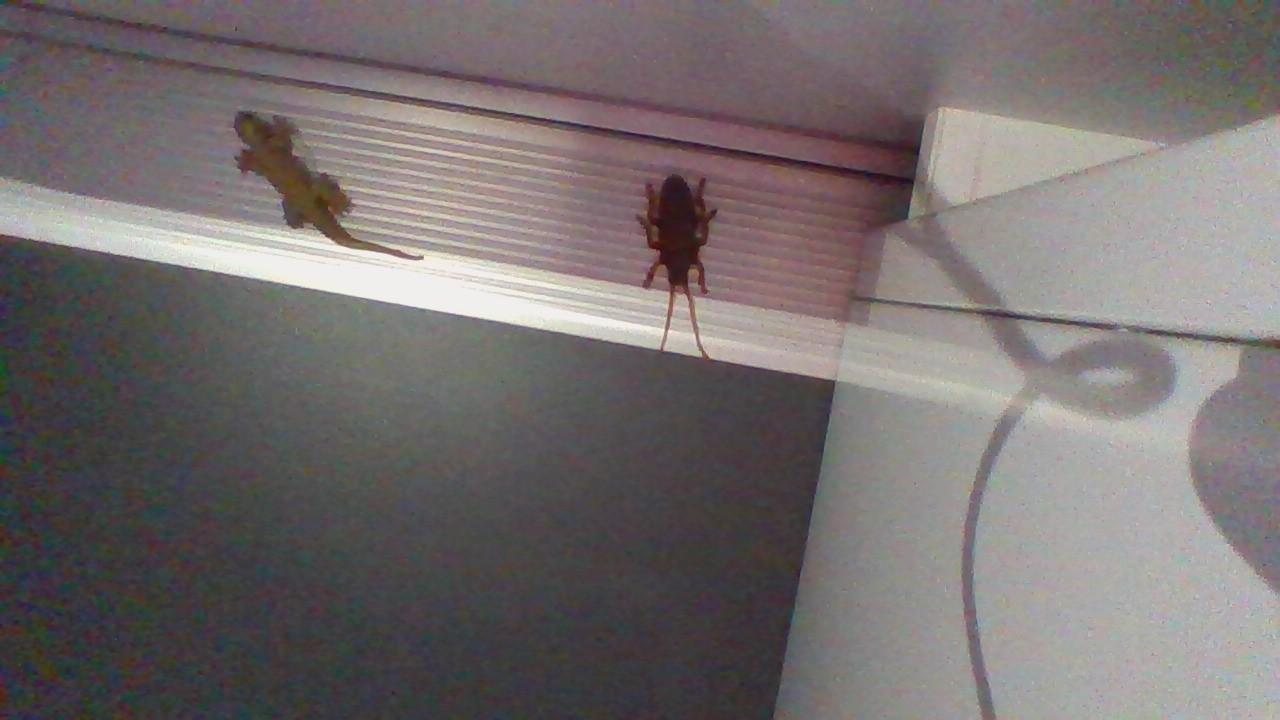cockroach: (615, 155, 729, 399)
lizard: (212, 89, 438, 285)
